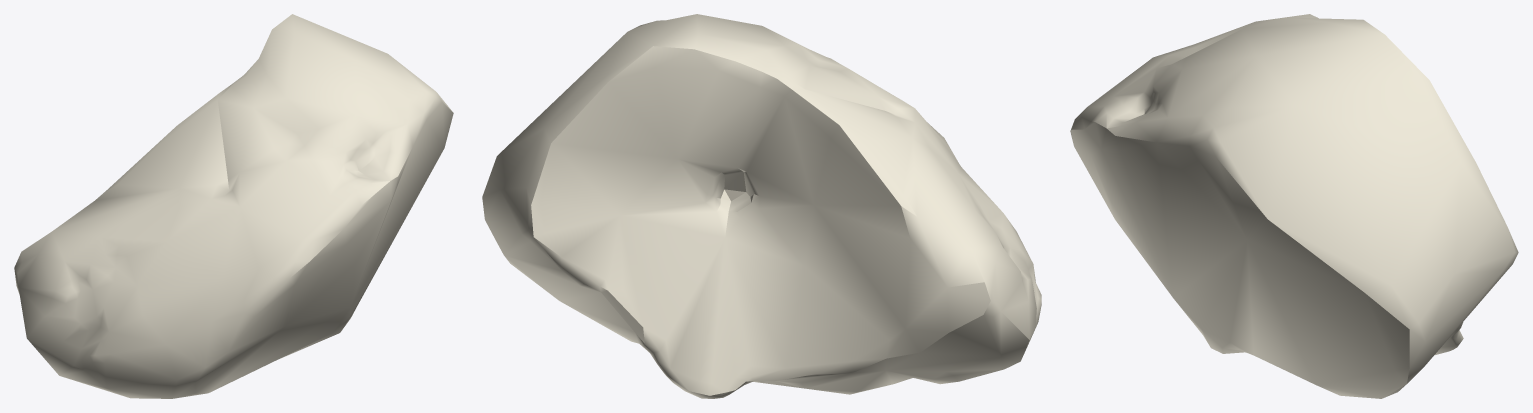
Rendered from fma24501_fj3307.glb.
The picture shows the model from 3 angles, left to right: view 1: azimuth 30°, elevation 25°; view 2: azimuth 150°, elevation 25°; view 3: azimuth 270°, elevation 25°; orthographic projection. The views are drawn at different scales.
Parts seen in each view (by area): view 1: FMA24501_FJ3307; view 2: FMA24501_FJ3307; view 3: FMA24501_FJ3307.
Part boxes in pixels (box(x1,y1,x2,y2)): FMA24501_FJ3307: box(14, 14, 453, 398); FMA24501_FJ3307: box(482, 14, 1041, 398); FMA24501_FJ3307: box(1070, 14, 1518, 398).
Bounding box in the file's own units: 0.0387 × 0.0247 × 0.0268.
